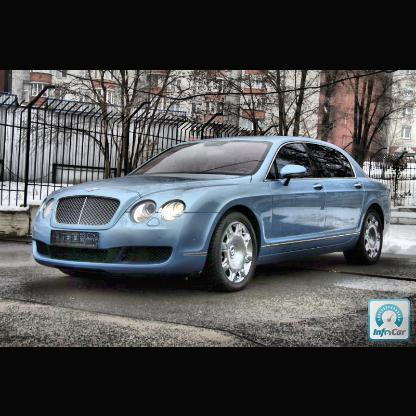Bentley Continental Flying Spur Sedan 2007: (28, 134, 390, 293)
